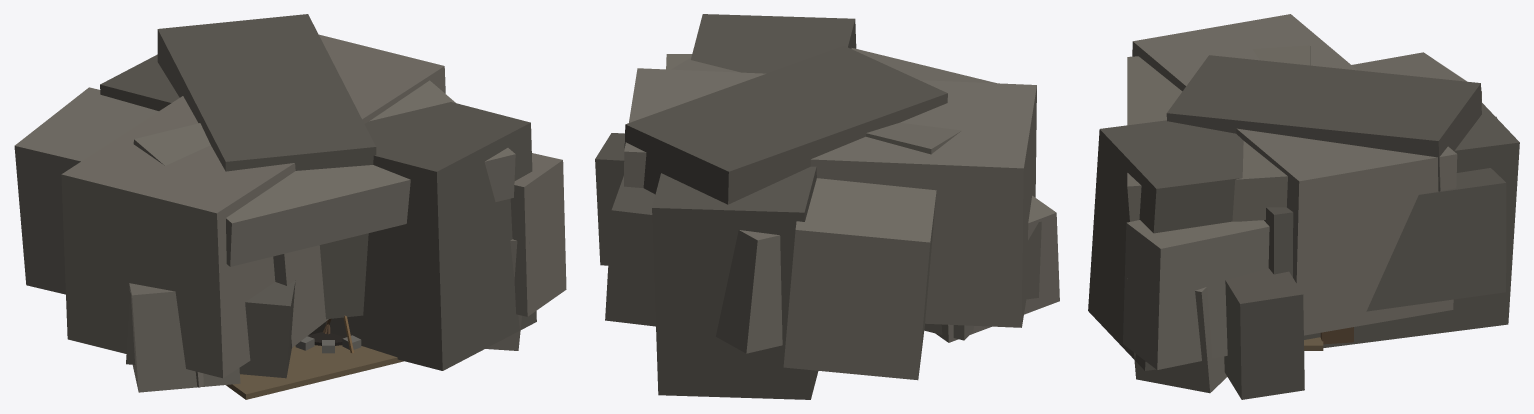
File: C_CaveHearth.glb
The picture shows the model from 3 angles, left to right: view 1: azimuth 30°, elevation 25°; view 2: azimuth 150°, elevation 25°; view 3: azimuth 270°, elevation 25°; orthographic projection. The views are drawn at different scales.
Parts seen in each view (by area): view 1: C_CaveHearth_Structure, C_CaveHearth_Foundation, C_CaveHearth_Props; view 2: C_CaveHearth_Structure; view 3: C_CaveHearth_Structure, C_CaveHearth_Props.
Part boxes in pixels (box(x1,y1,x2,y2)): C_CaveHearth_Structure: box(14, 14, 566, 392); C_CaveHearth_Foundation: box(226, 345, 403, 399); C_CaveHearth_Props: box(295, 318, 361, 353); C_CaveHearth_Structure: box(595, 14, 1059, 399); C_CaveHearth_Structure: box(1088, 14, 1519, 399); C_CaveHearth_Props: box(1320, 327, 1353, 344).
Size of the model in its own units: 13.43 by 6.64 by 12.04.
